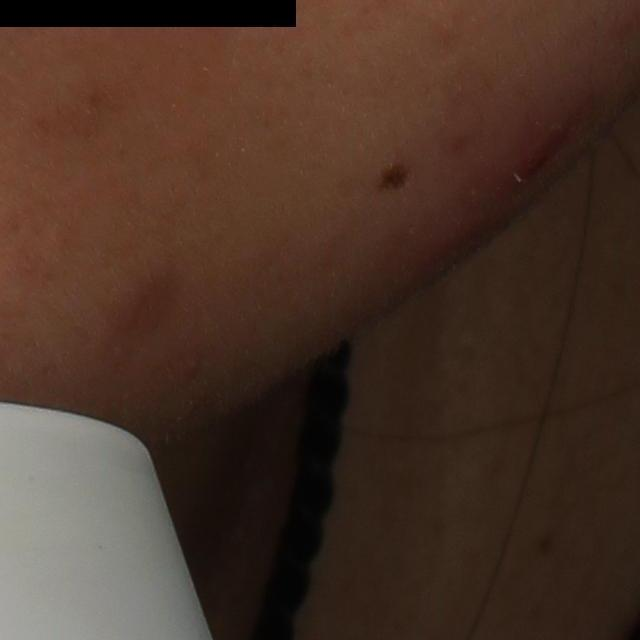nevus: (371, 158, 415, 196)
